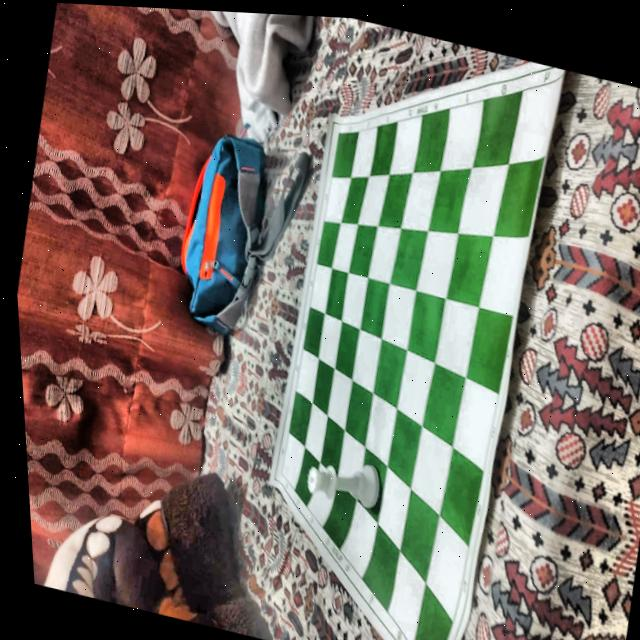WhiteQueen: (297, 449, 387, 515)
